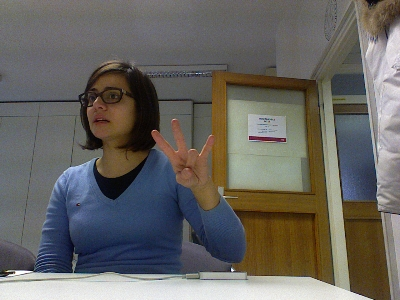观音: (149, 117, 215, 190)
